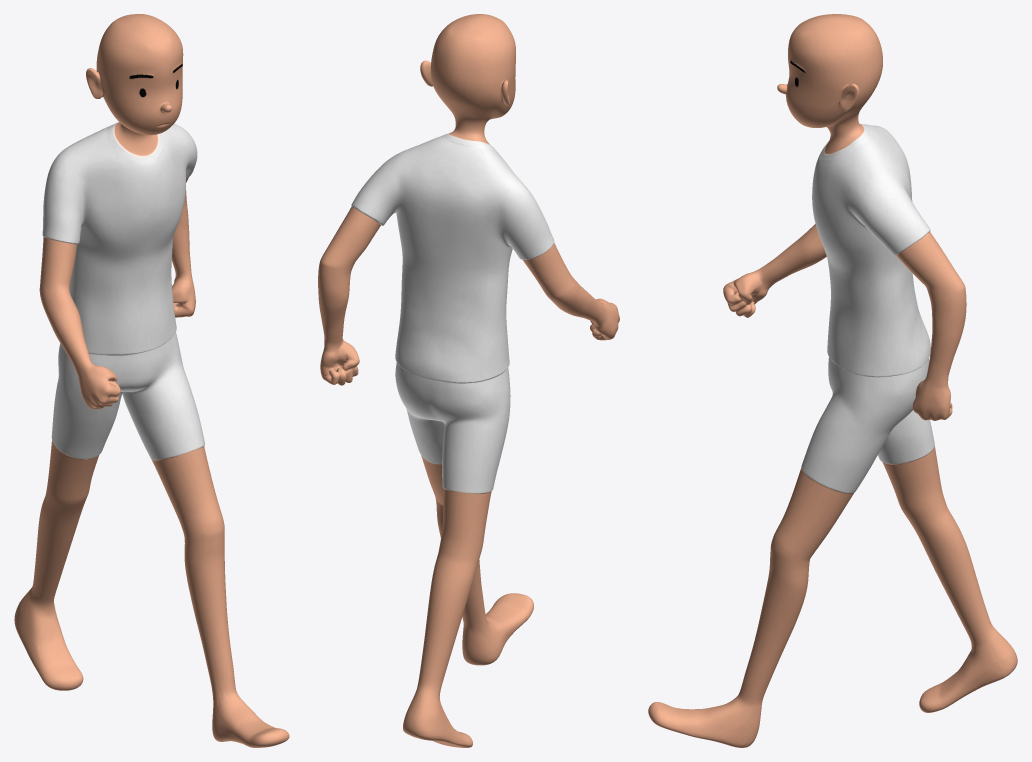
The model's file is Body.glb.
3 views of the same model, side by side, from view 1: azimuth 30°, elevation 25°; view 2: azimuth 150°, elevation 25°; view 3: azimuth 270°, elevation 25° (orthographic). The views are drawn at different scales.
Visible parts, largest first — view 1: IVB_BASE_014; view 2: IVB_BASE_014; view 3: IVB_BASE_014.
Part boxes in pixels (bbox=[...]): IVB_BASE_014: bbox=[14, 14, 289, 747]; IVB_BASE_014: bbox=[318, 14, 619, 747]; IVB_BASE_014: bbox=[648, 14, 1017, 747].
Bounding box in the file's own units: 0.9542 × 3.12 × 1.48.
1 material, 1 textured.
